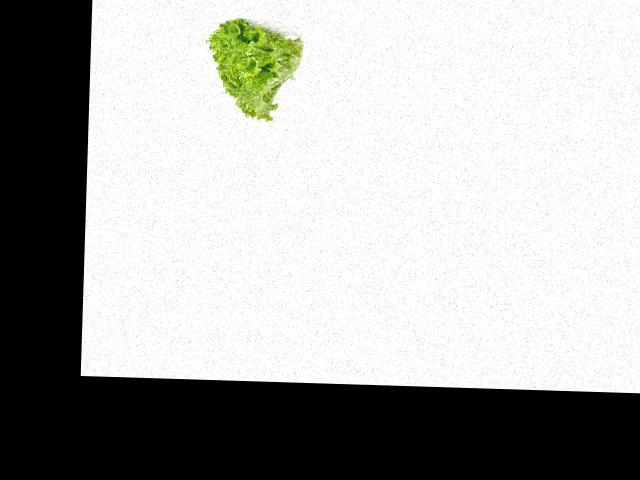lettuce: (198, 17, 310, 125)
